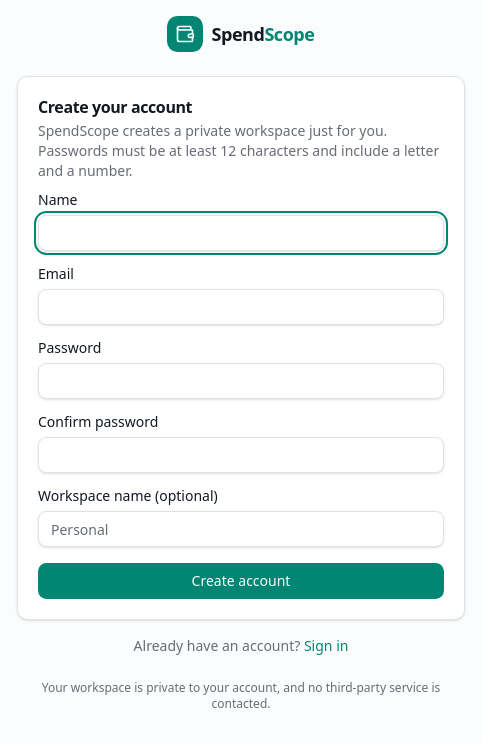
SignUpPage › shows a server error without redirecting
In the field labelled "Name": (241, 233) [38, 215, 444, 251], type "New User"
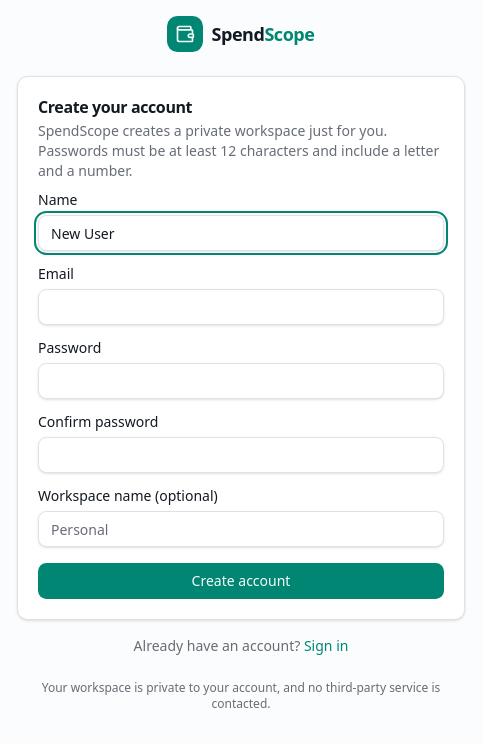
In the field labelled "Email": (241, 307) [38, 289, 444, 325], type "new@example.test"
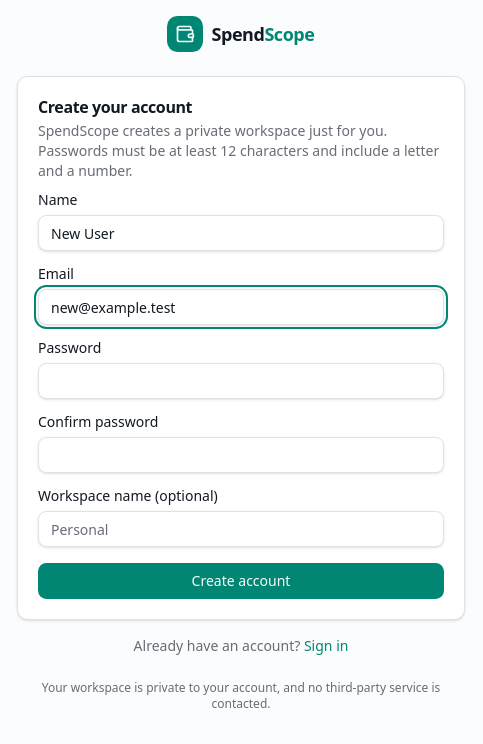
In the password field labelled "Password": (241, 381) [38, 363, 444, 399], type "a-strong-passw0rd"
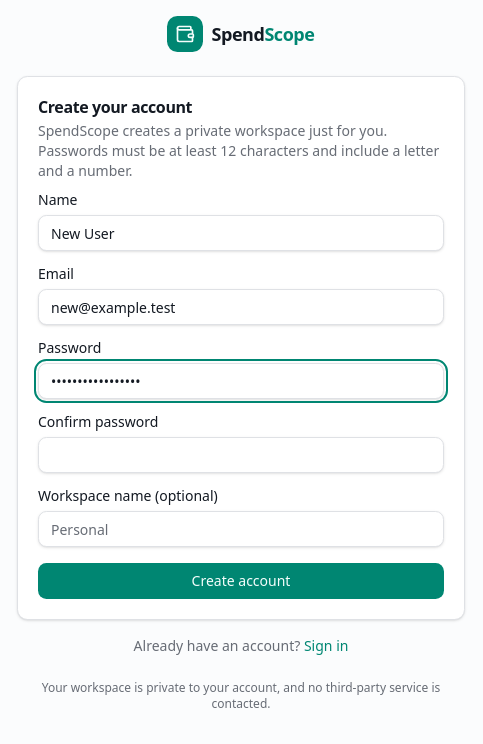
In the password field labelled "Confirm password": (241, 455) [38, 437, 444, 473], type "a-strong-passw0rd"
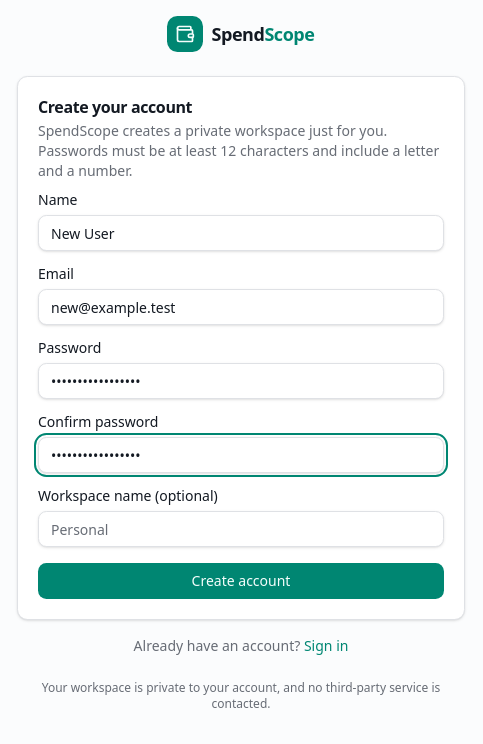
Click the button "Create account": (241, 581) [38, 563, 444, 599]
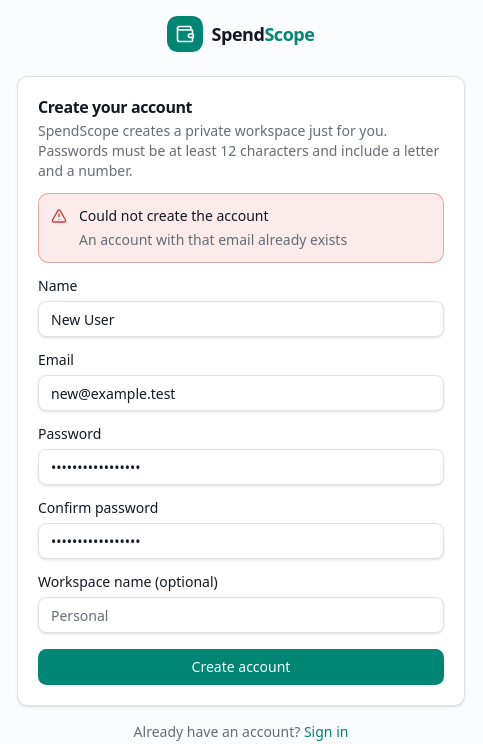
Expected: the button "Create account" is shown, [38, 649, 444, 685]
Now the text "An account with that email already exists" is shown, box [79, 230, 347, 250]
